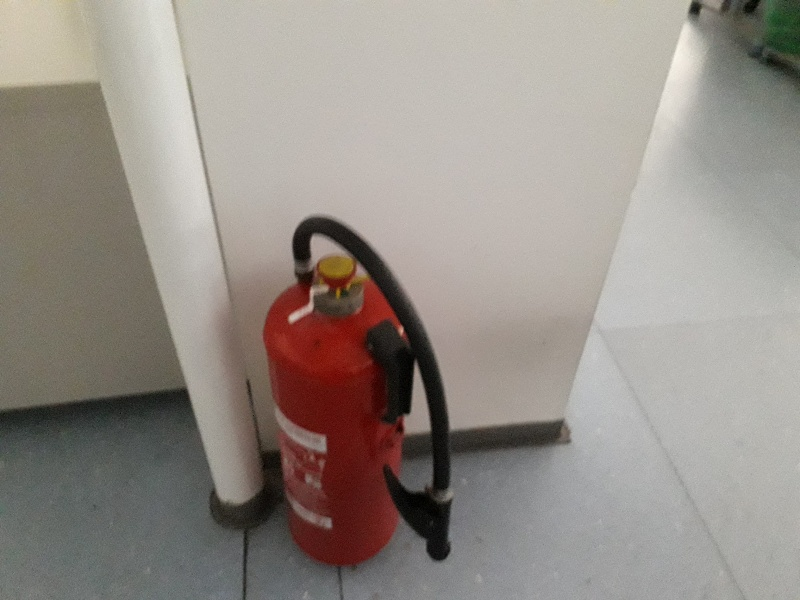vataparat: (264, 218, 452, 566)
